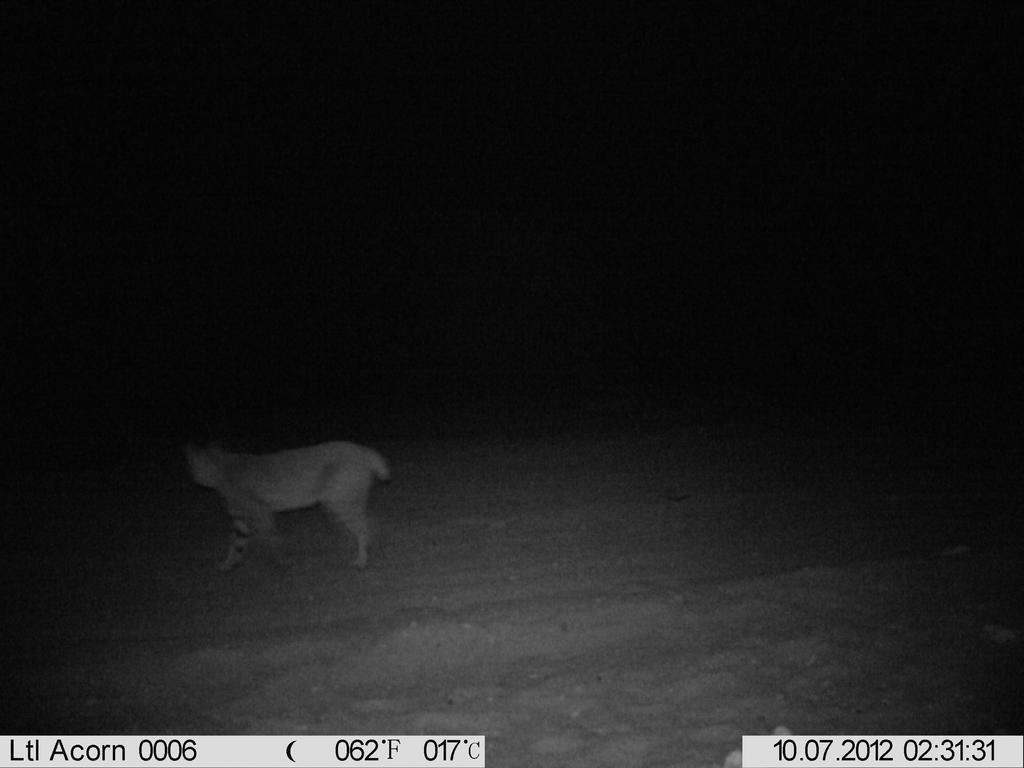bobcat: (177, 429, 393, 585)
